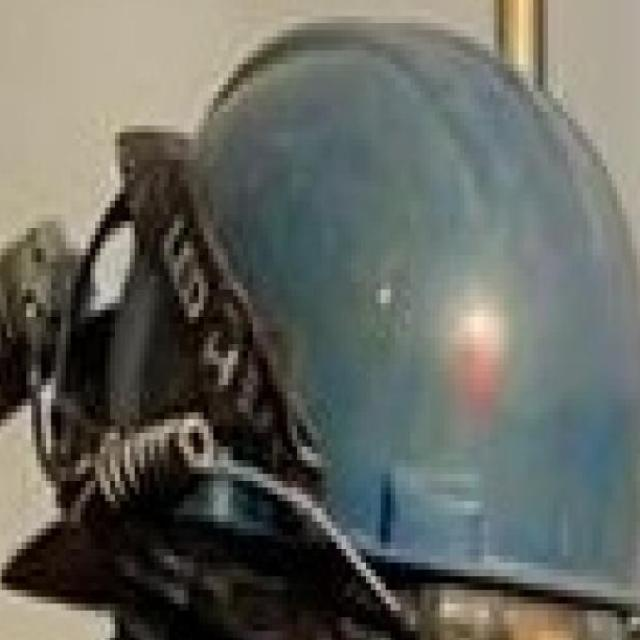helmet: (28, 5, 640, 623)
